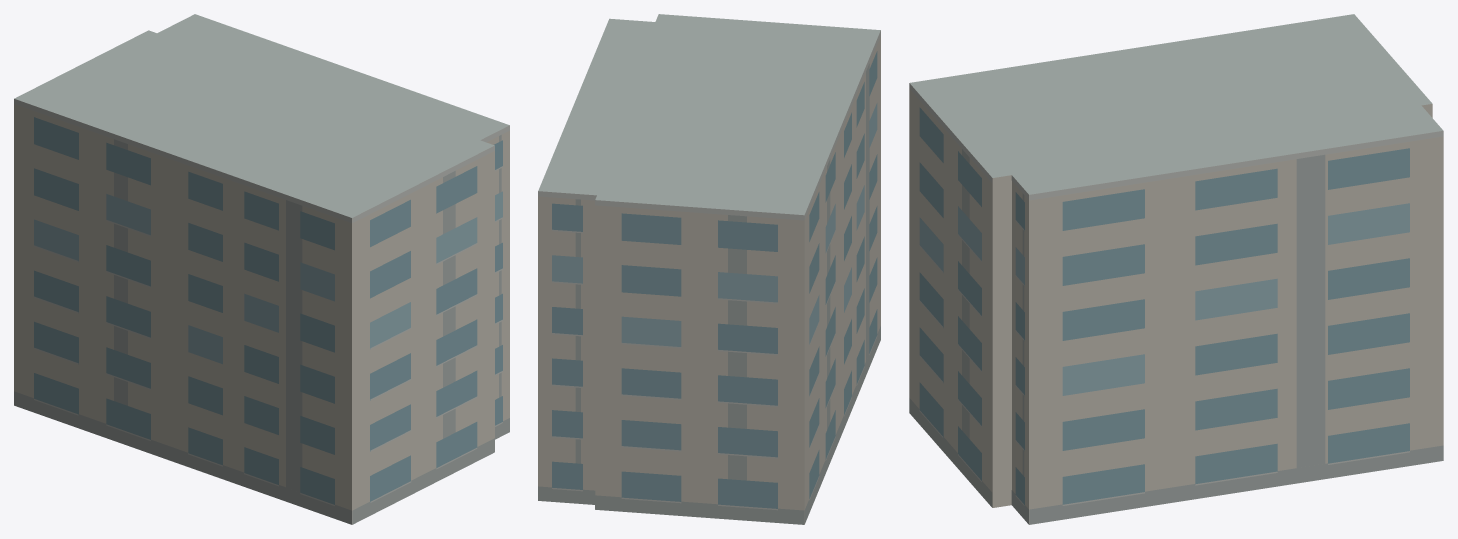
Rendered from survey-upis-32864012.glb.
3 renders of one model, left to right at view 1: azimuth 30°, elevation 25°; view 2: azimuth 150°, elevation 25°; view 3: azimuth 270°, elevation 25°, orthographic. The views are drawn at different scales.
Parts seen in each view (by area): view 1: survey-upis-32864012.tmp; view 2: survey-upis-32864012.tmp; view 3: survey-upis-32864012.tmp.
Boxes of the visible parts, x1,y1,x2,y2 form: survey-upis-32864012.tmp: (14, 14, 509, 524); survey-upis-32864012.tmp: (538, 14, 880, 524); survey-upis-32864012.tmp: (909, 14, 1443, 524).
Size of the model in its own units: 16.82 by 14.3 by 20.99.
